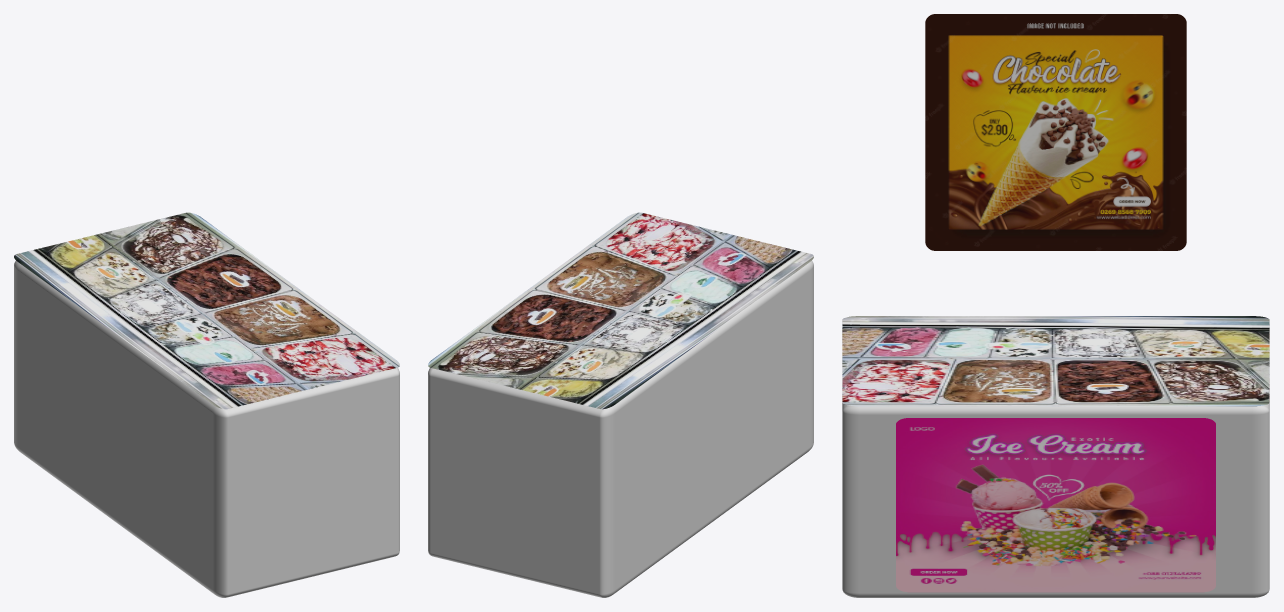
Rendered from icrCream.glb.
3 renders of one model, left to right at view 1: azimuth 30°, elevation 25°; view 2: azimuth 150°, elevation 25°; view 3: azimuth 270°, elevation 25°, orthographic.
Visible parts, largest first — view 1: Box, Plane; view 2: Box, Plane; view 3: Plane 2, Plane 1, Plane, Box.
Boxes of the visible parts, left/top/right/bottom form: Box: left=14, top=261, right=399, bottom=597; Plane: left=14, top=212, right=399, bottom=409; Box: left=428, top=261, right=813, bottom=597; Plane: left=428, top=212, right=813, bottom=409; Plane 2: left=925, top=14, right=1186, bottom=250; Plane 1: left=896, top=418, right=1215, bottom=592; Plane: left=842, top=316, right=1269, bottom=406; Box: left=842, top=403, right=1269, bottom=597.
Bounding box in the file's own units: 0.1191 × 0.248 × 0.2.
4 materials, 3 textured.
